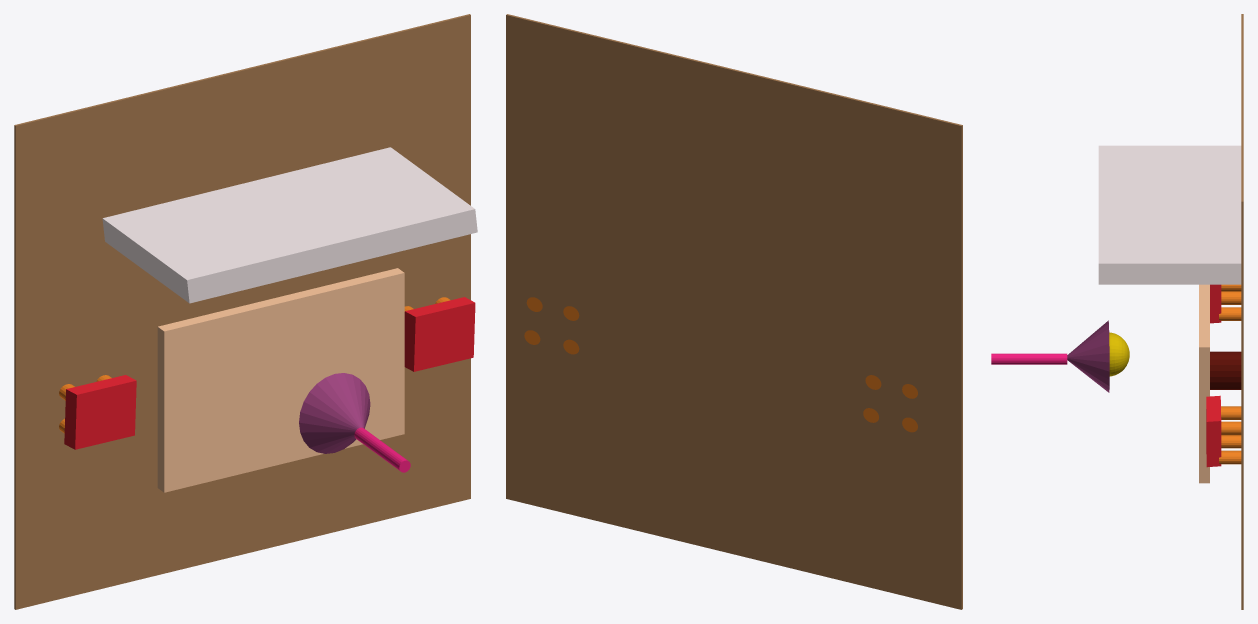
Rendered from tinker.obj.
The picture shows the model from 3 angles, left to right: view 1: azimuth 30°, elevation 25°; view 2: azimuth 150°, elevation 25°; view 3: azimuth 270°, elevation 25°; orthographic projection. The views are drawn at different scales.
Visible parts, largest first — view 1: group_0_11107152, group_0_16500122, group_0_16116202, group_0_15277357, group_0_9977721, group_0_16064385; view 2: group_0_11107152, group_0_16089887; view 3: group_0_16116202, group_0_16500122, group_0_16089887, group_0_11107152, group_0_9977721, group_0_15277357, group_0_6360837, group_0_16064385, group_0_14137344.
Part boxes in pixels (x1=…): group_0_11107152: x1=14, y1=14, x2=470, y2=609; group_0_16500122: x1=157, y1=268, x2=404, y2=492; group_0_16116202: x1=102, y1=147, x2=477, y2=303; group_0_15277357: x1=64, y1=297, x2=475, y2=449; group_0_9977721: x1=299, y1=373, x2=370, y2=453; group_0_16064385: x1=354, y1=427, x2=410, y2=472; group_0_11107152: x1=506, y1=14, x2=962, y2=609; group_0_16089887: x1=524, y1=297, x2=917, y2=432; group_0_16116202: x1=1098, y1=145, x2=1241, y2=284; group_0_16500122: x1=1199, y1=284, x2=1209, y2=483; group_0_16089887: x1=1219, y1=284, x2=1241, y2=464; group_0_11107152: x1=1241, y1=14, x2=1243, y2=609; group_0_9977721: x1=1067, y1=320, x2=1109, y2=392; group_0_15277357: x1=1206, y1=284, x2=1221, y2=467; group_0_6360837: x1=1210, y1=351, x2=1241, y2=389; group_0_16064385: x1=991, y1=353, x2=1067, y2=364; group_0_14137344: x1=1109, y1=332, x2=1129, y2=376.
Bounding box in the file's own units: 199 × 202 × 113.
